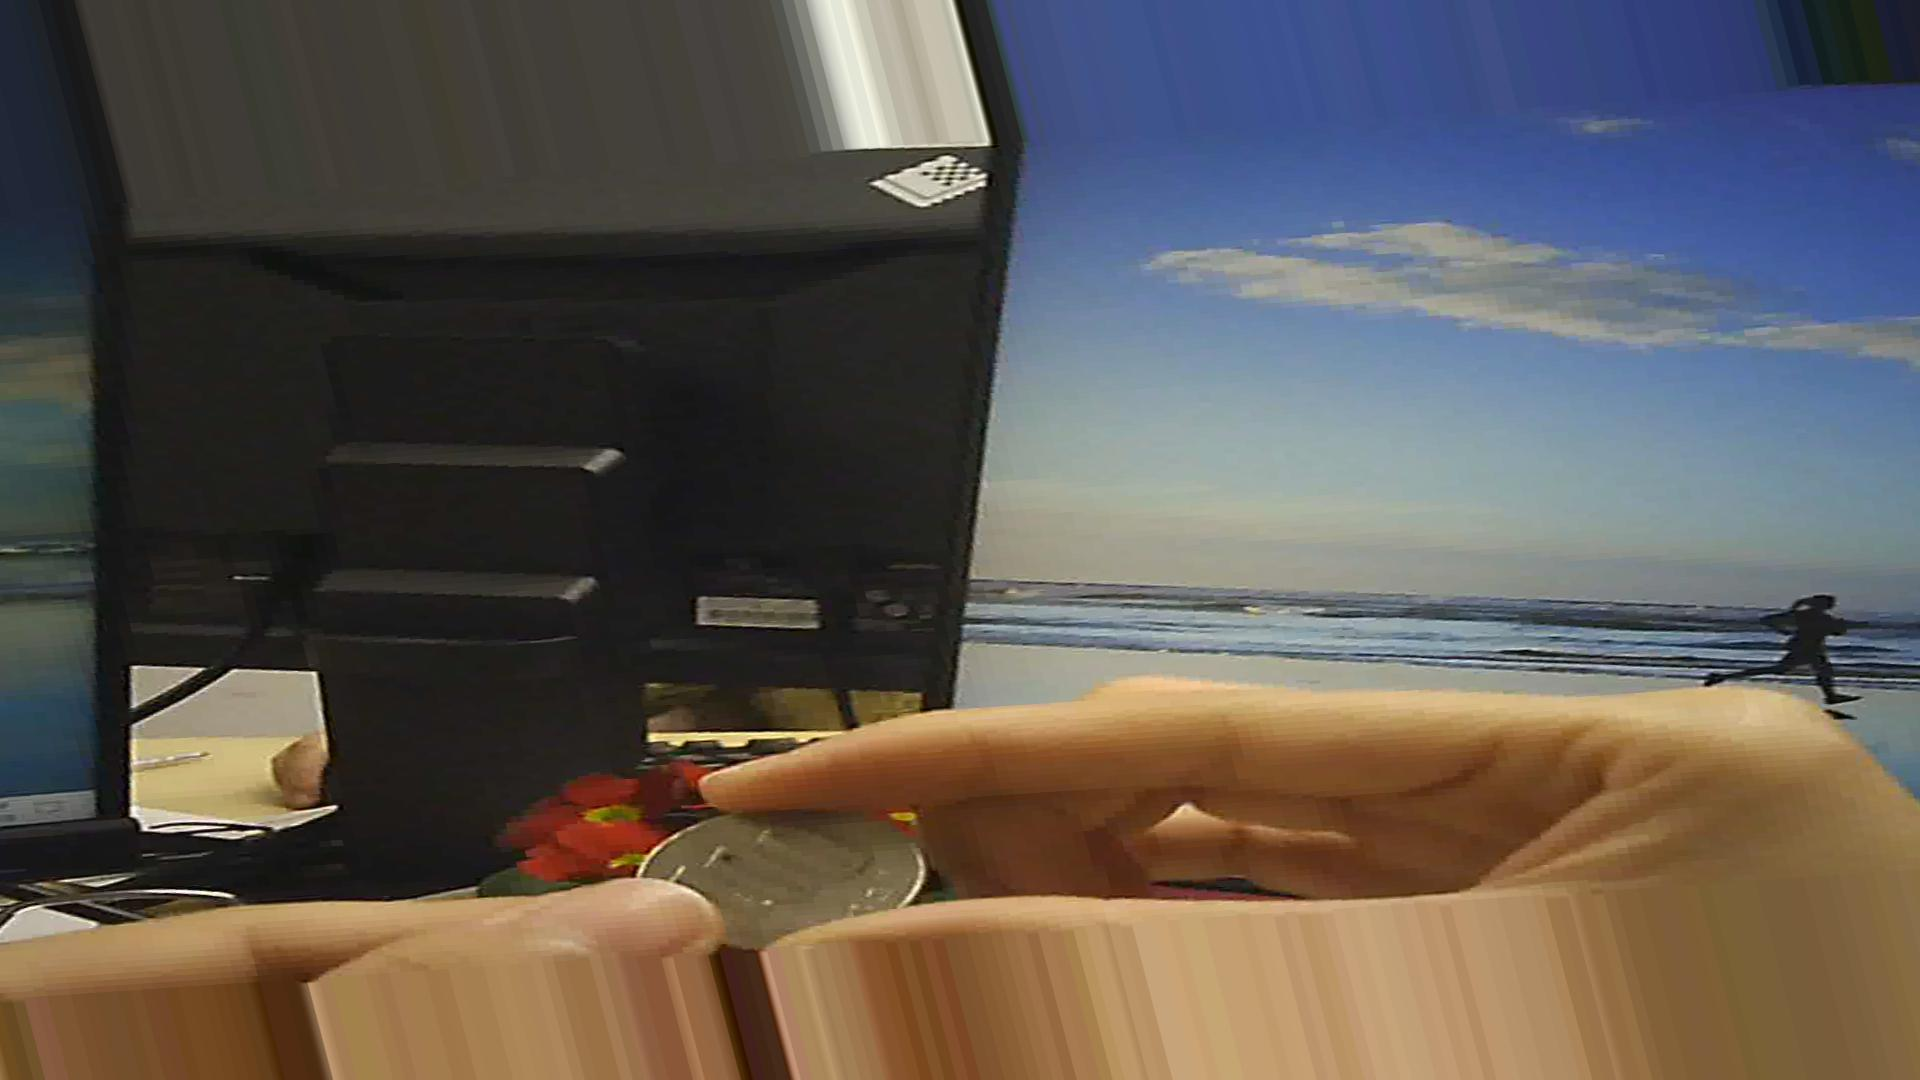100 Yen: (618, 793, 926, 944)
